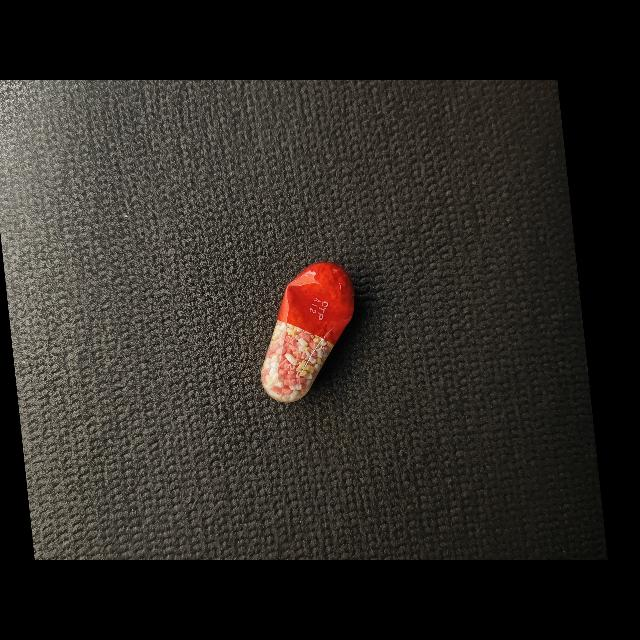Defective Capsule: (261, 262, 355, 403)
